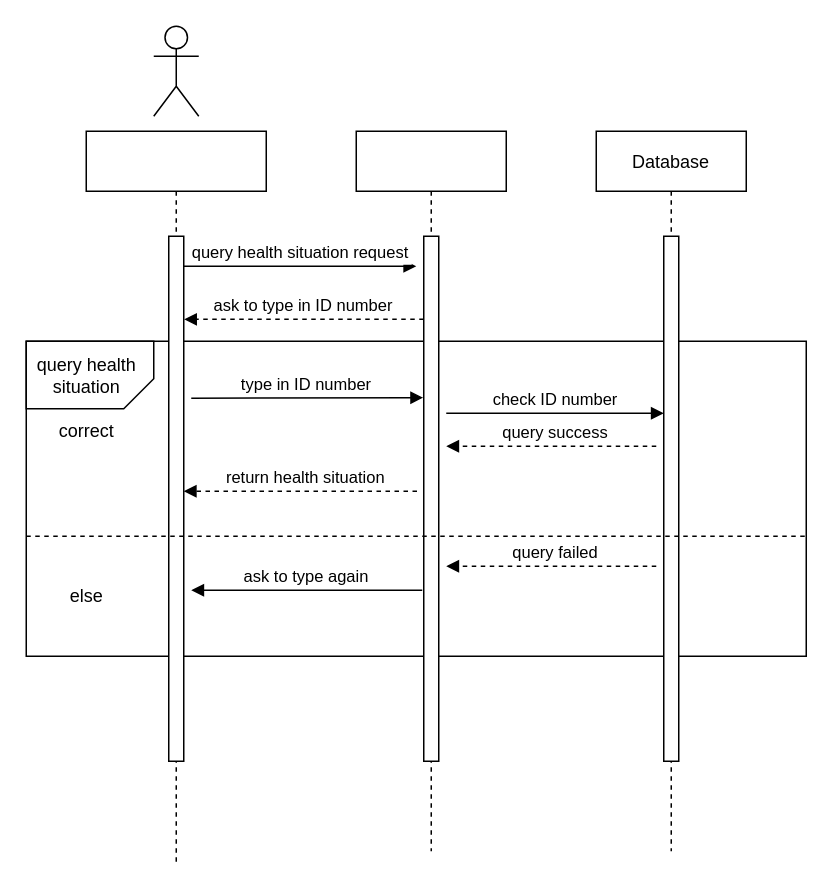
The diagram is 834 pixels wide and 893 high, and some of its shapes have lost their labels. The box of each missing label's shape, as (x1, y1, x2, y2) in pixels:
People: (85, 130, 266, 866)
System: (355, 130, 506, 851)
